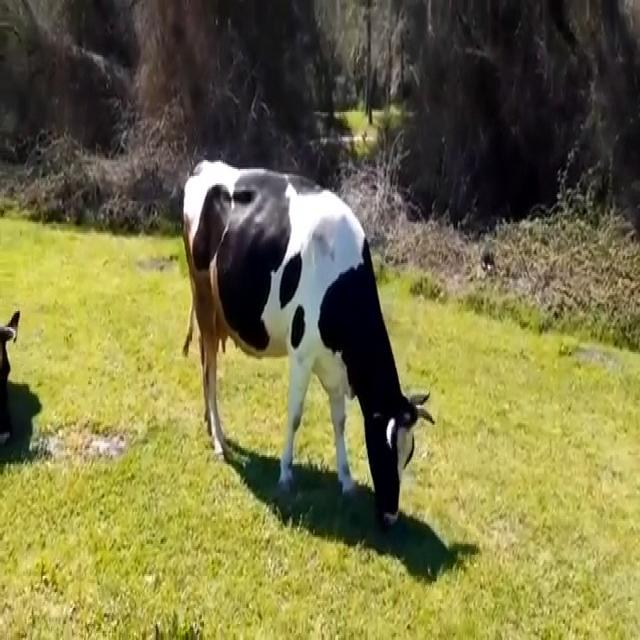cow: (185, 162, 432, 526)
